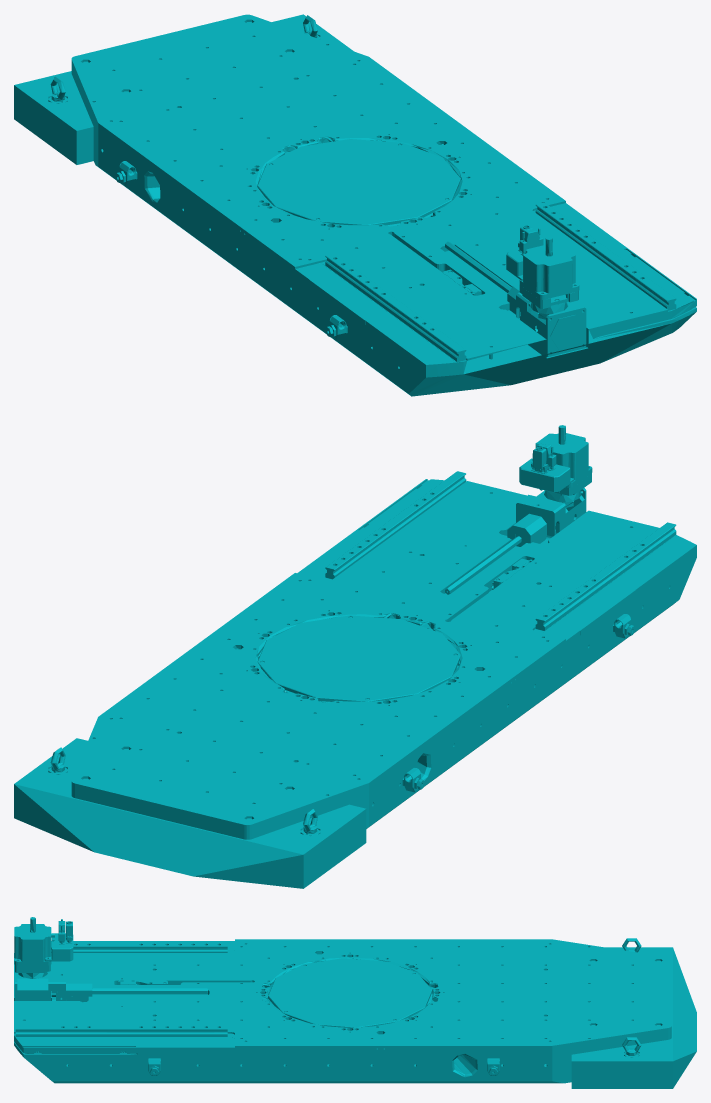
The model's file is theta_arm.dae.
The picture shows the model from 3 angles, top to bottom: view 1: azimuth 30°, elevation 25°; view 2: azimuth 150°, elevation 25°; view 3: azimuth 270°, elevation 25°; orthographic projection. The views are drawn at different scales.
Parts seen in each view (by area): view 1: node0; view 2: node0; view 3: node0.
Part boxes in pixels (box(x1,y1,x2,y2)): node0: box(14, 14, 696, 396); node0: box(14, 425, 696, 888); node0: box(14, 917, 696, 1088).
Size of the model in its own units: 0.652 by 1.57 by 0.282.
